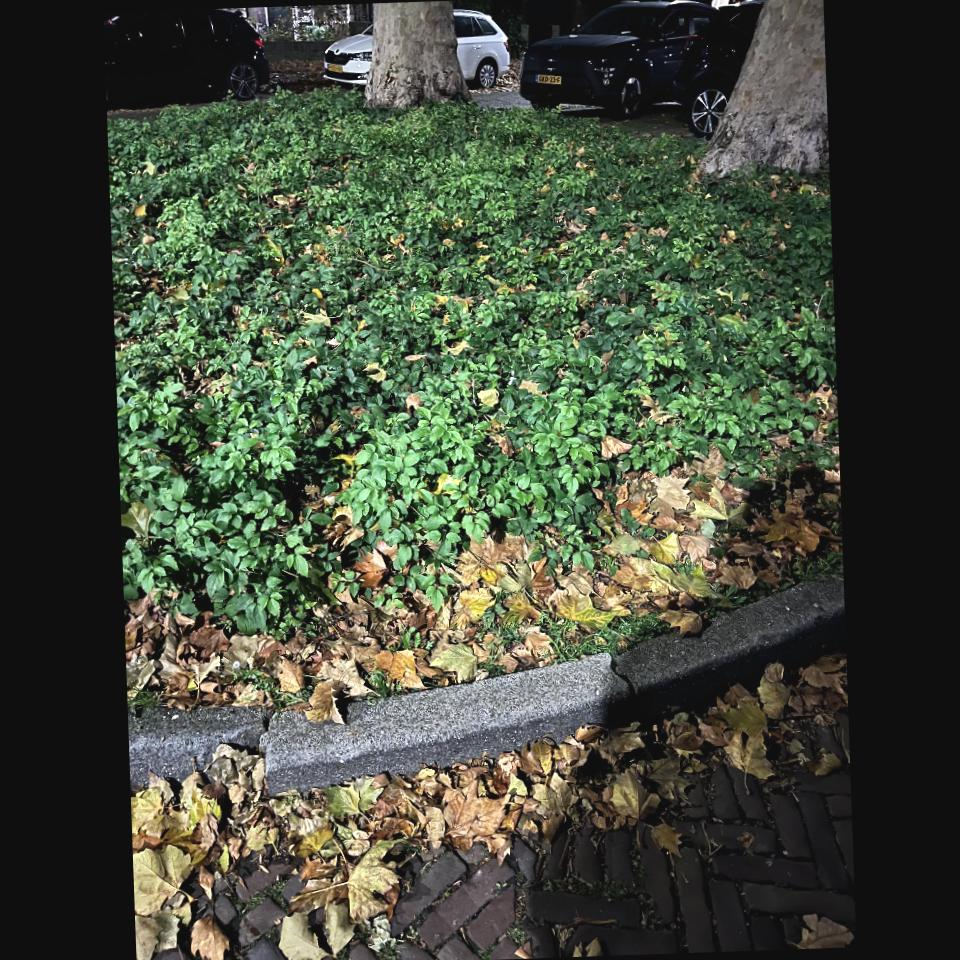weed: (109, 85, 846, 686)
